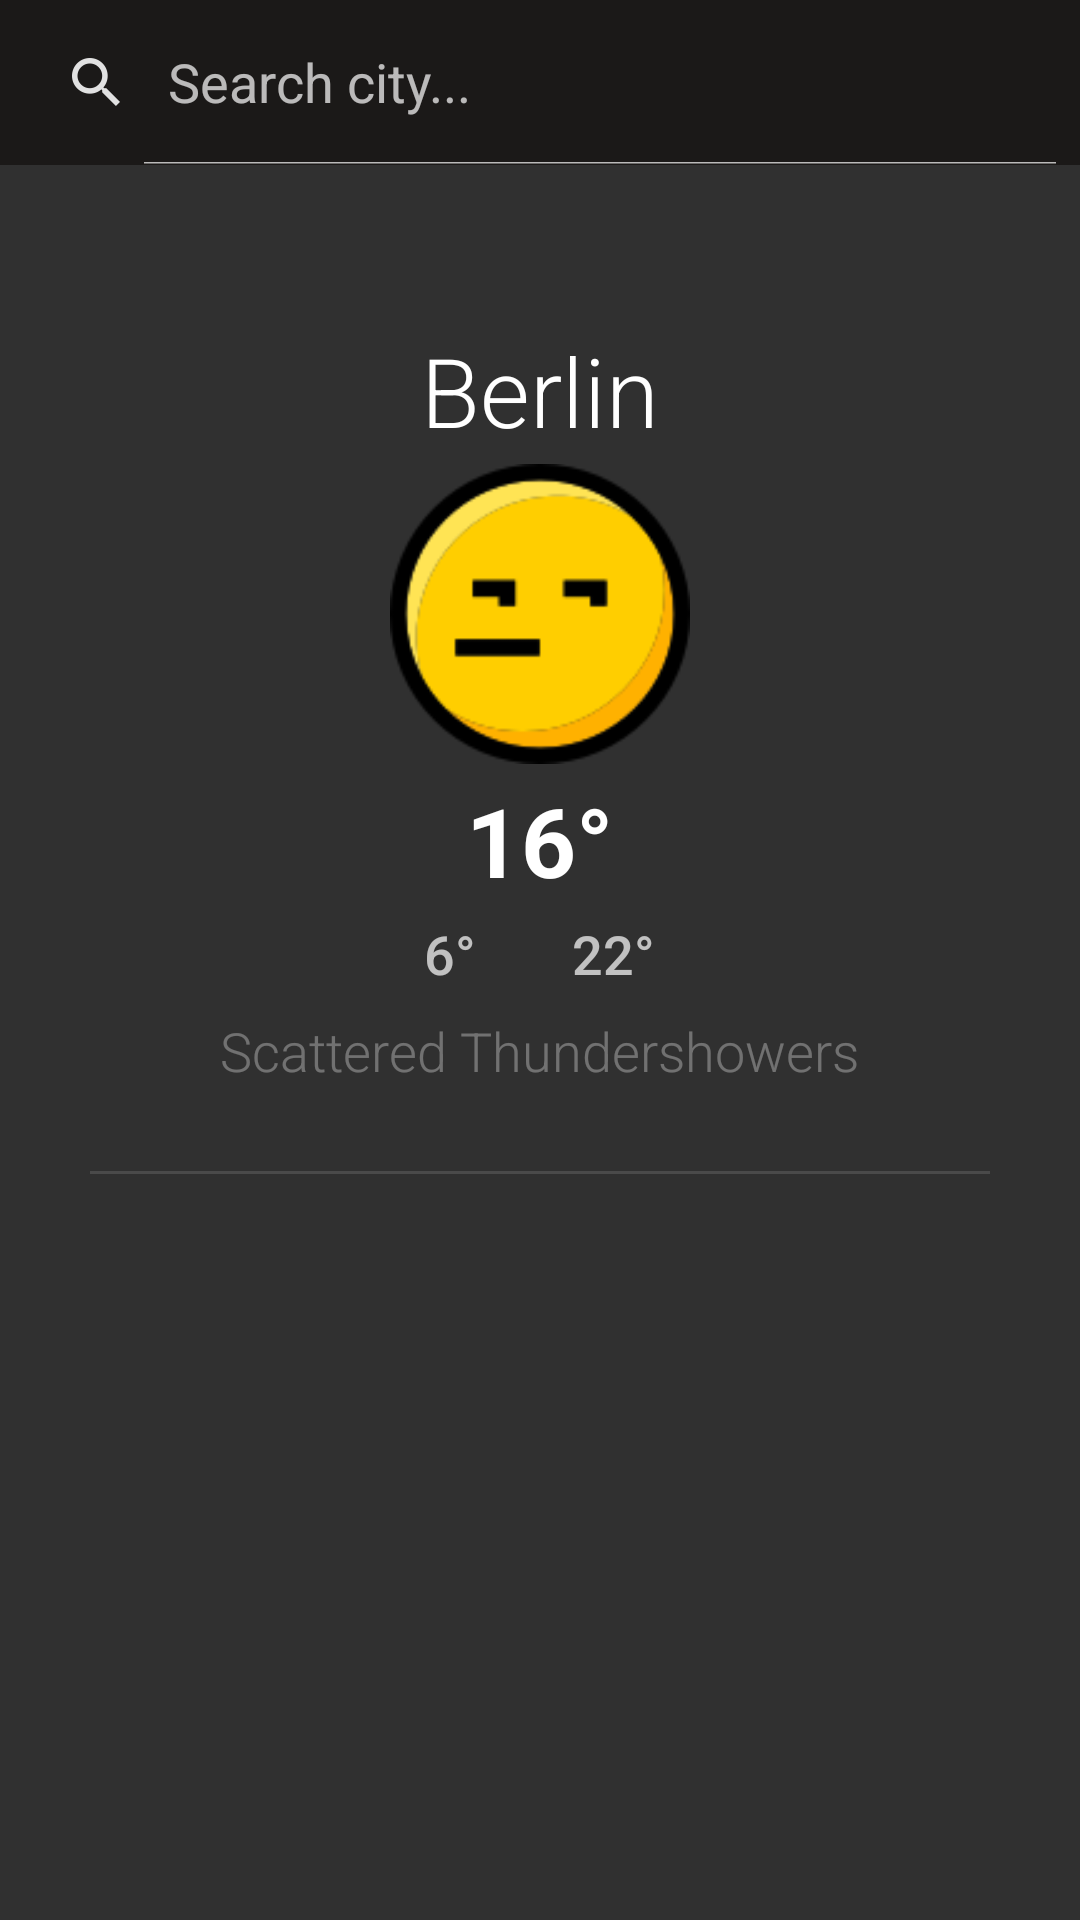

Icon click points for this 1080*1920 phone screenshot, format point (x, y):
whatever: point (540, 614)
